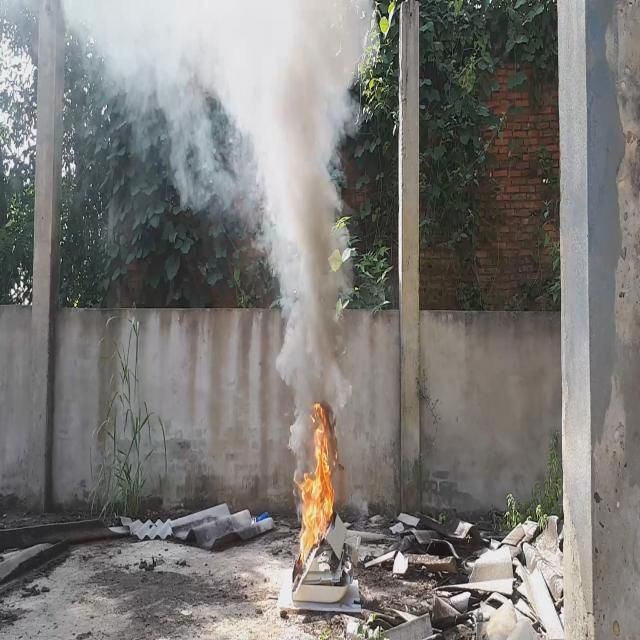Fire: (297, 400, 336, 564)
Smoke: (0, 0, 378, 488)
